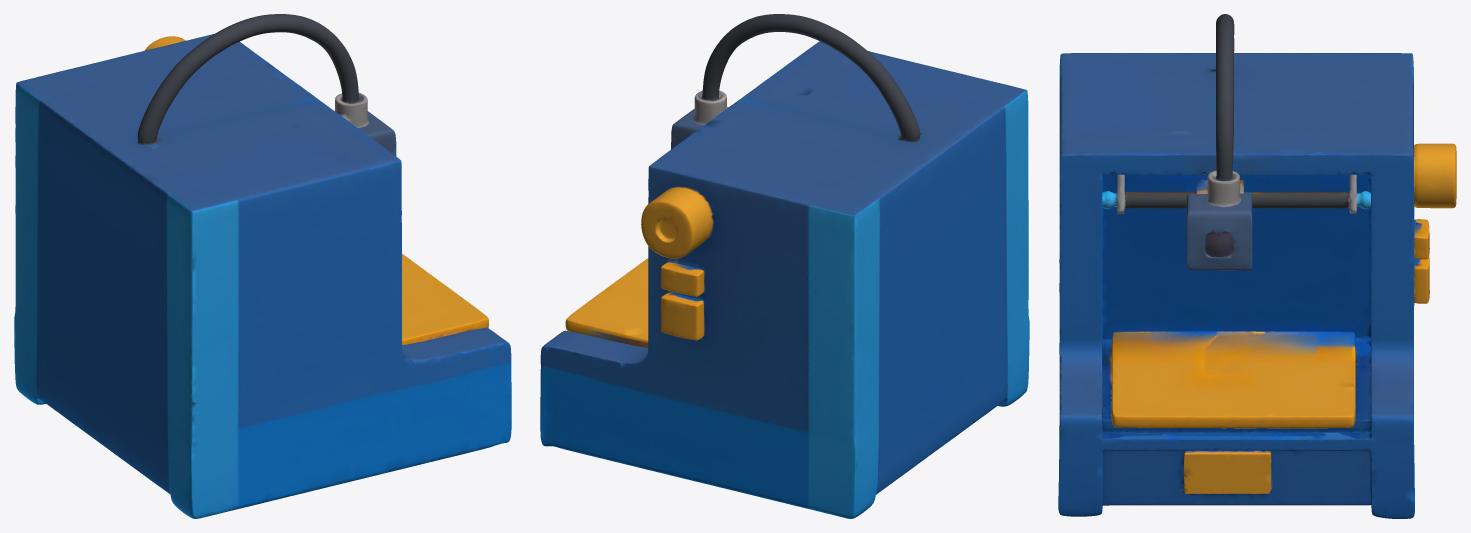
Rendered from 3d+printer+model.fbx.
3 views of the same model, side by side, from view 1: azimuth 30°, elevation 25°; view 2: azimuth 150°, elevation 25°; view 3: azimuth 270°, elevation 25° (orthographic).
Parts seen in each view (by area): view 1: tripo_node_adef0eb4; view 2: tripo_node_adef0eb4; view 3: tripo_node_adef0eb4.
Part boxes in pixels (bbox=[...]): tripo_node_adef0eb4: bbox=[14, 14, 511, 518]; tripo_node_adef0eb4: bbox=[540, 14, 1029, 518]; tripo_node_adef0eb4: bbox=[1058, 14, 1456, 518].
Size of the model in its own units: 0.8358 by 1 by 0.8809.
1 material, 1 textured.
